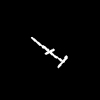double_crochet: (31, 37, 66, 67)
